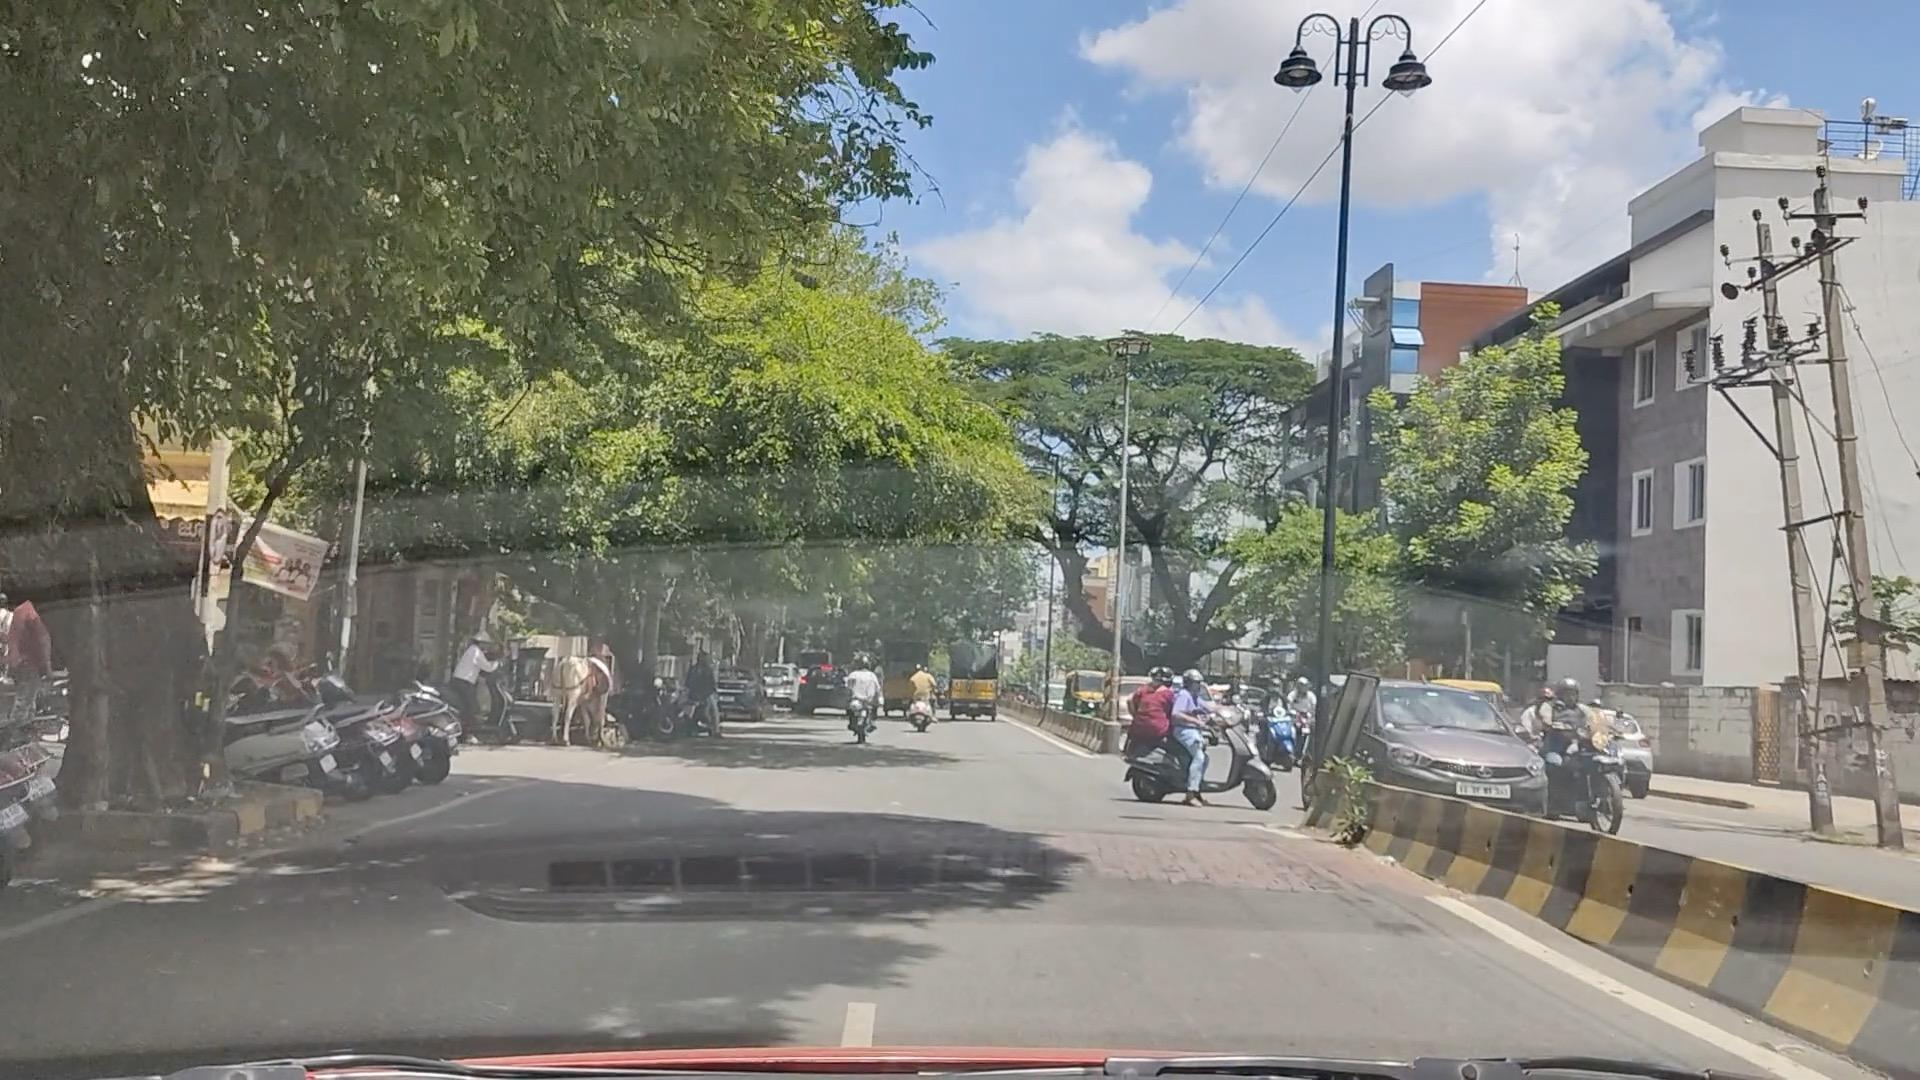LMV: (1139, 670, 1262, 810)
